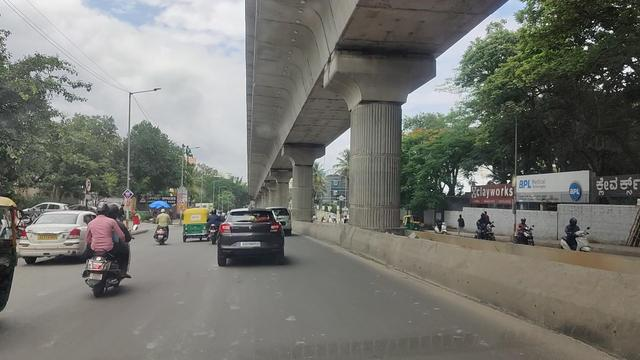LMV: (82, 194, 130, 310), (215, 206, 289, 268), (158, 208, 173, 242)
RoadDamages: (181, 208, 209, 241)
